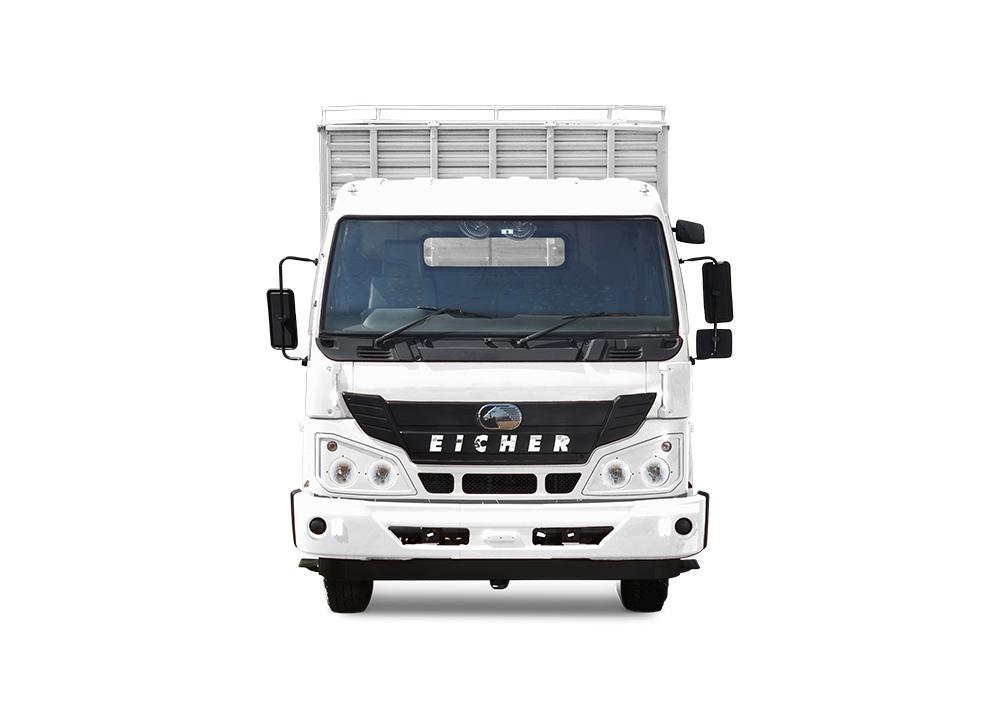truck: (266, 101, 733, 615)
